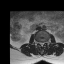CCS_normal: (41, 40, 42, 48)
LFS_severe_stenosis: (44, 39, 46, 45)
LLS_stenosis: (42, 40, 44, 46)
RFS_stenosis: (37, 39, 39, 45)
RLS_normal: (39, 40, 41, 46)
